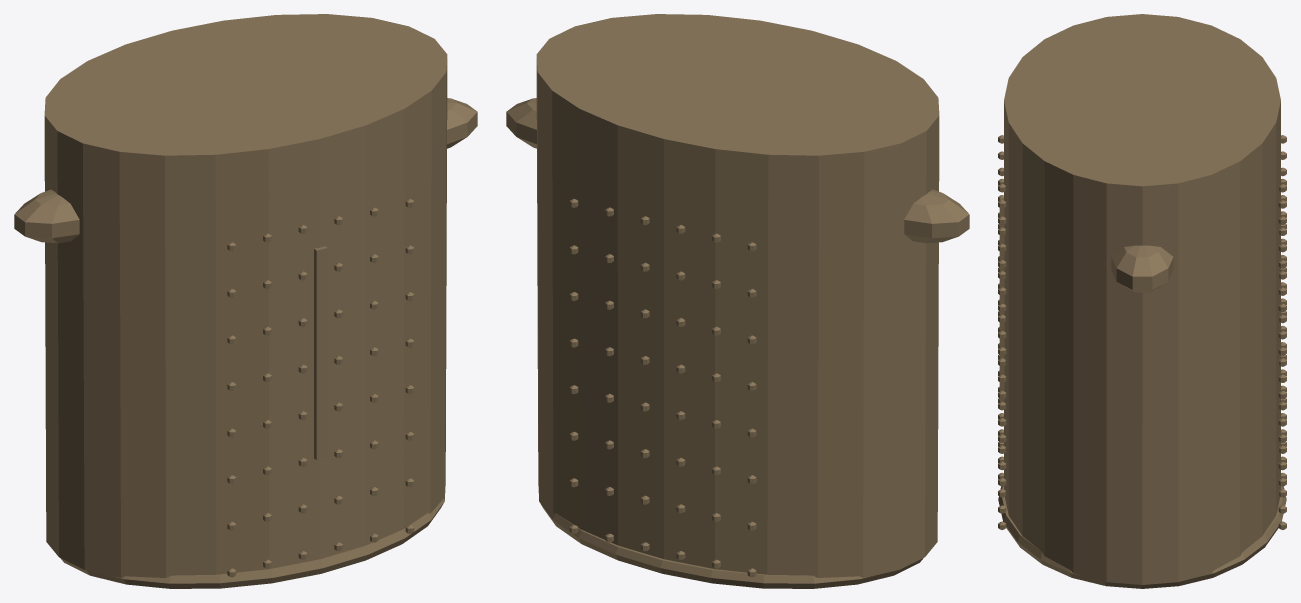
Rendered from brigandine.fbx.
3 renders of one model, left to right at view 1: azimuth 30°, elevation 25°; view 2: azimuth 150°, elevation 25°; view 3: azimuth 270°, elevation 25°, orthographic. The views are drawn at different scales.
Visible parts, largest first — view 1: brigandine; view 2: brigandine; view 3: brigandine.
Part boxes in pixels (bbox=[...]): brigandine: bbox=[14, 14, 477, 588]; brigandine: bbox=[506, 14, 969, 588]; brigandine: bbox=[998, 14, 1286, 588].
Size of the model in its own units: 0.6102 by 0.5587 by 0.3604.
